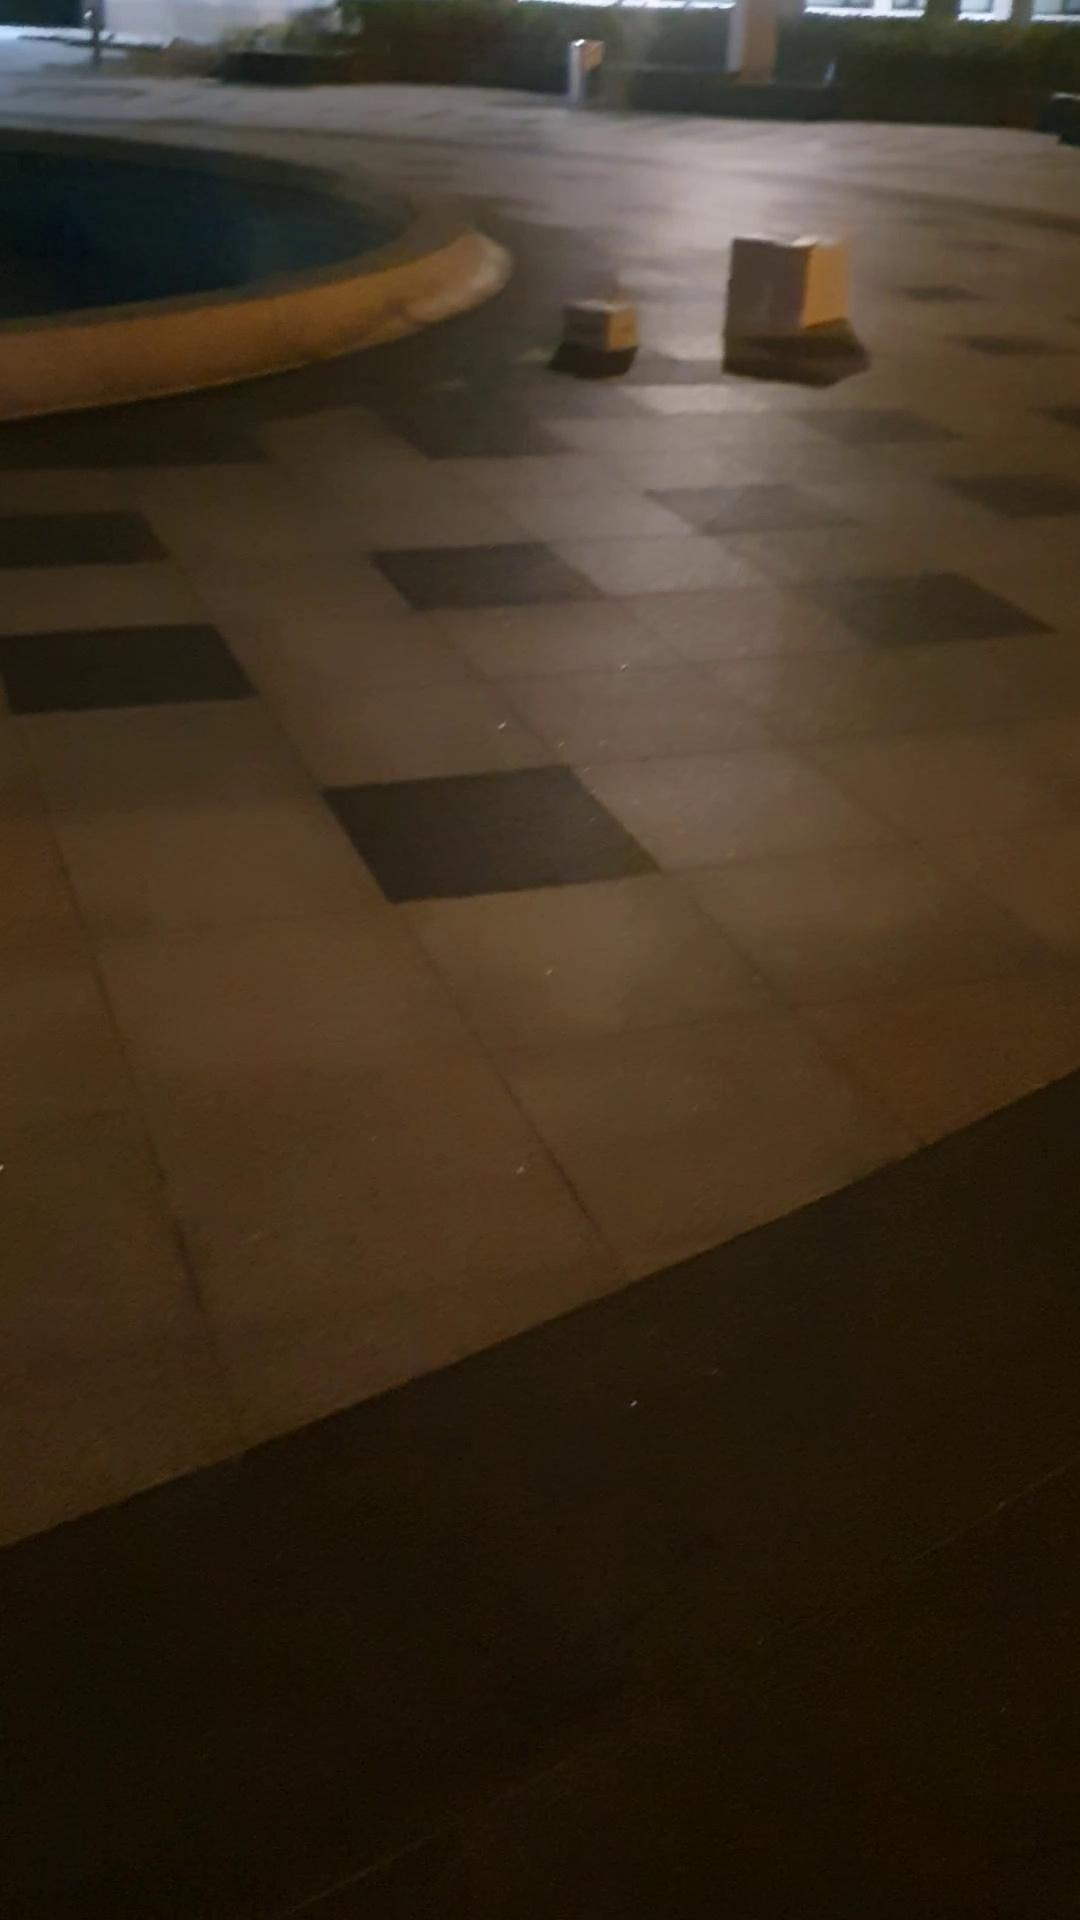Box: (721, 223, 852, 352), (556, 284, 640, 357)
